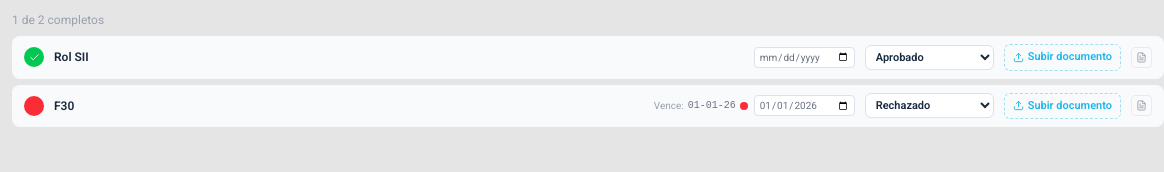
Test case: TransporterDocumentsPanel › renders the current (never-replaced) version as "vigente", not "reemplazado"
The width and height of the screenshot is (1164, 172).
Click the button titled "Ver historial de versiones" in the row of "Rol SII" at (1142, 57), box 1131,47 -> 1152,68
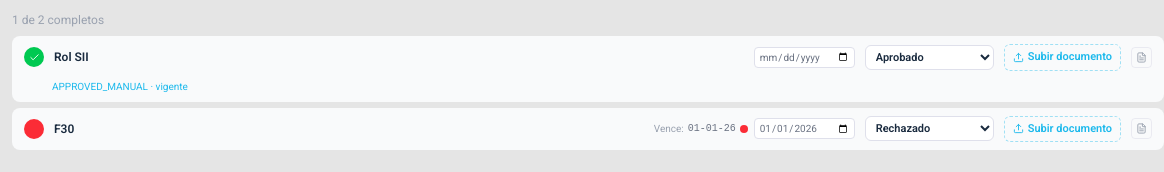
Check: the text "APPROVED_MANUAL · vigente" is shown, box 52,78 -> 188,94
